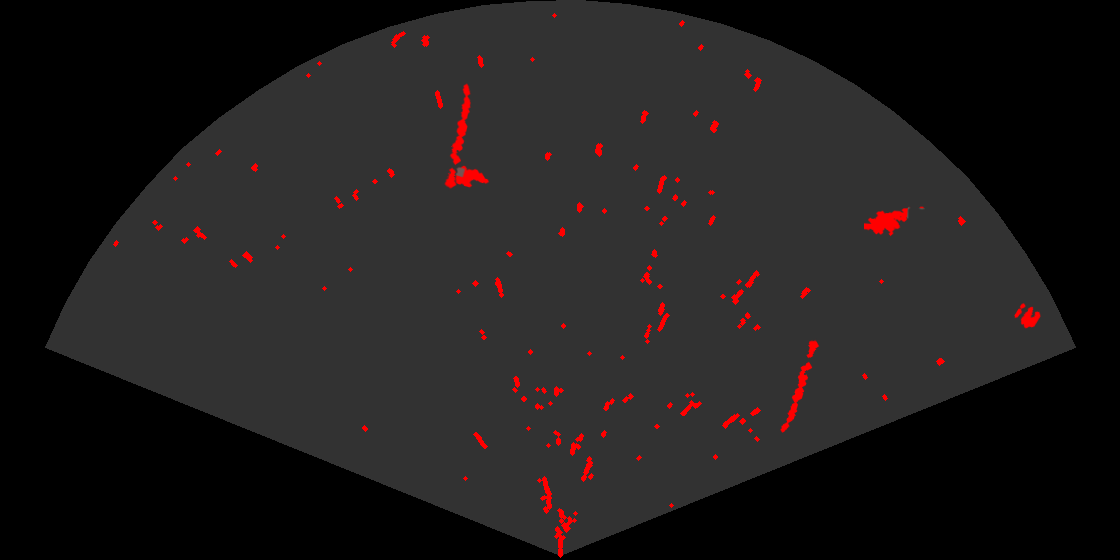AUV: (445, 164, 491, 189)
ball: (1013, 301, 1042, 330)
chain: (779, 338, 821, 434), (443, 82, 472, 191)
frogman: (864, 205, 925, 238)
